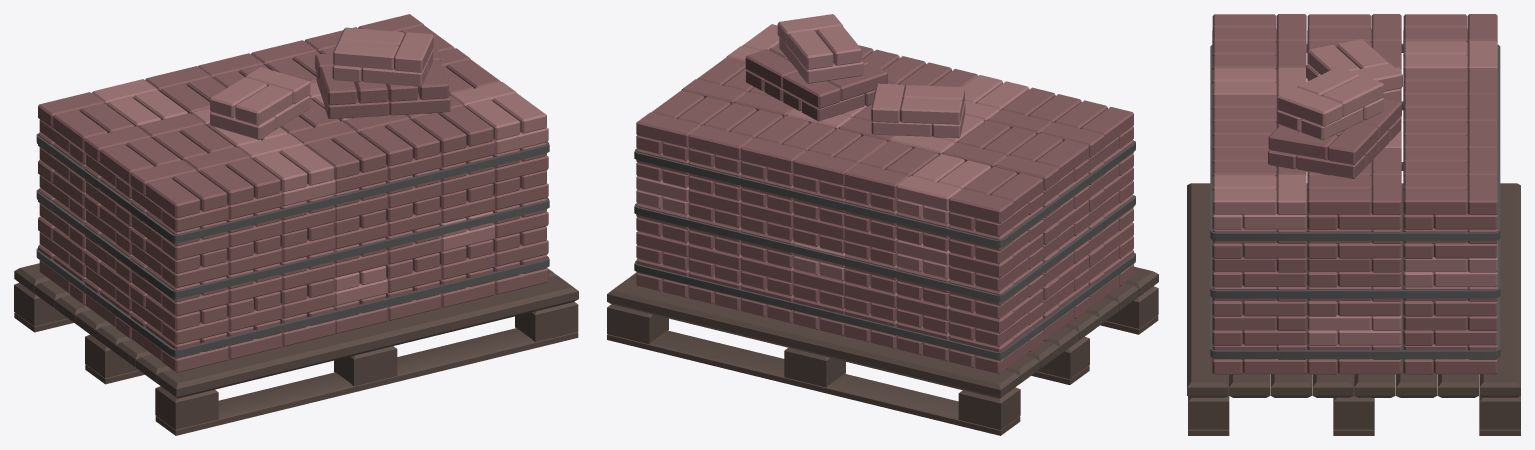
Rendered from props_44.glb.
3 views of the same model, side by side, from view 1: azimuth 30°, elevation 25°; view 2: azimuth 150°, elevation 25°; view 3: azimuth 270°, elevation 25° (orthographic). The views are drawn at different scales.
Visible parts, largest first — view 1: props_44; view 2: props_44; view 3: props_44.
Boxes of the visible parts, x1,y1,x2,y2 form: props_44: (14,14,578,435); props_44: (607,14,1158,435); props_44: (1187,14,1520,435).
Size of the model in its own units: 2.85 by 1.87 by 1.99.
Materials: 1 (1 with a texture image).
